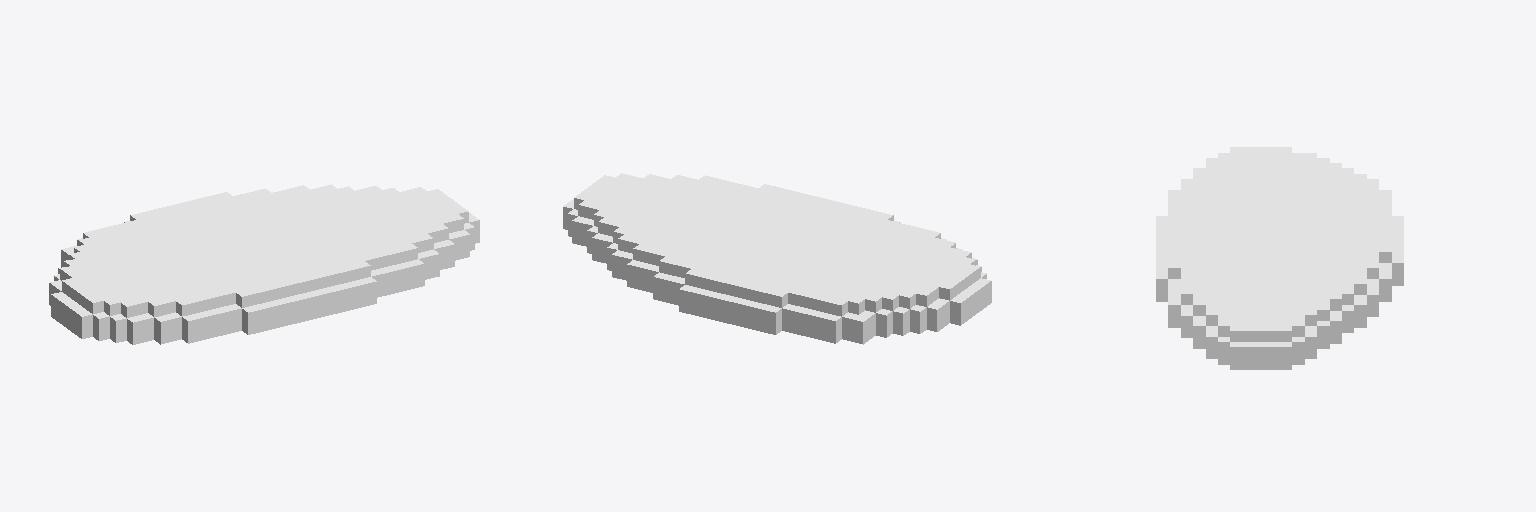
The model's file is Steak.obj.
3 renders of one model, left to right at view 1: azimuth 30°, elevation 25°; view 2: azimuth 150°, elevation 25°; view 3: azimuth 270°, elevation 25°, orthographic.
Visible parts, largest first — view 1: object 1; view 2: object 1; view 3: object 1.
Part boxes in pixels (x1,y1,x2,y2): object 1: (49,184,479,344); object 1: (563,173,991,344); object 1: (1156,147,1403,369).
Size of the model in its own units: 3.7 by 0.3 by 2.